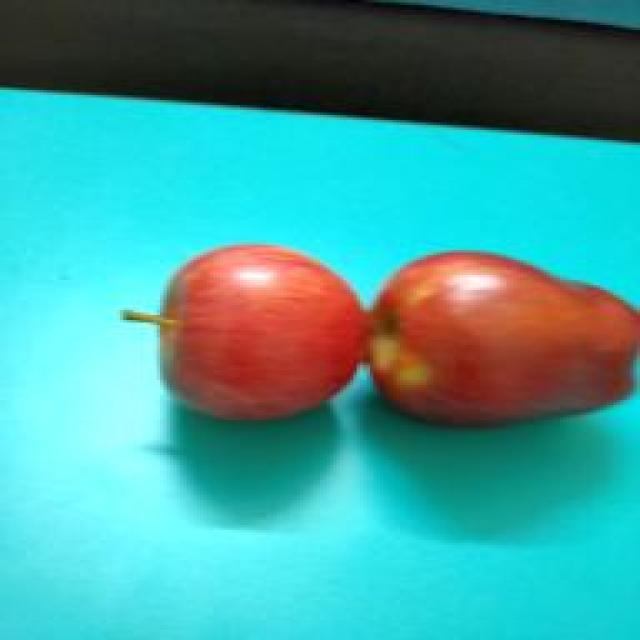Good_Apple: (367, 252, 640, 432), (120, 245, 370, 425)
